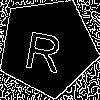R: (22, 22, 66, 73)
